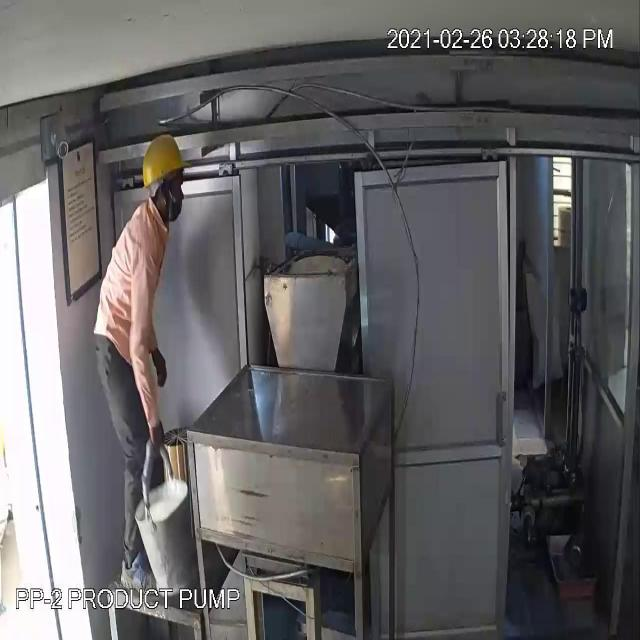helmet: (136, 133, 190, 187)
